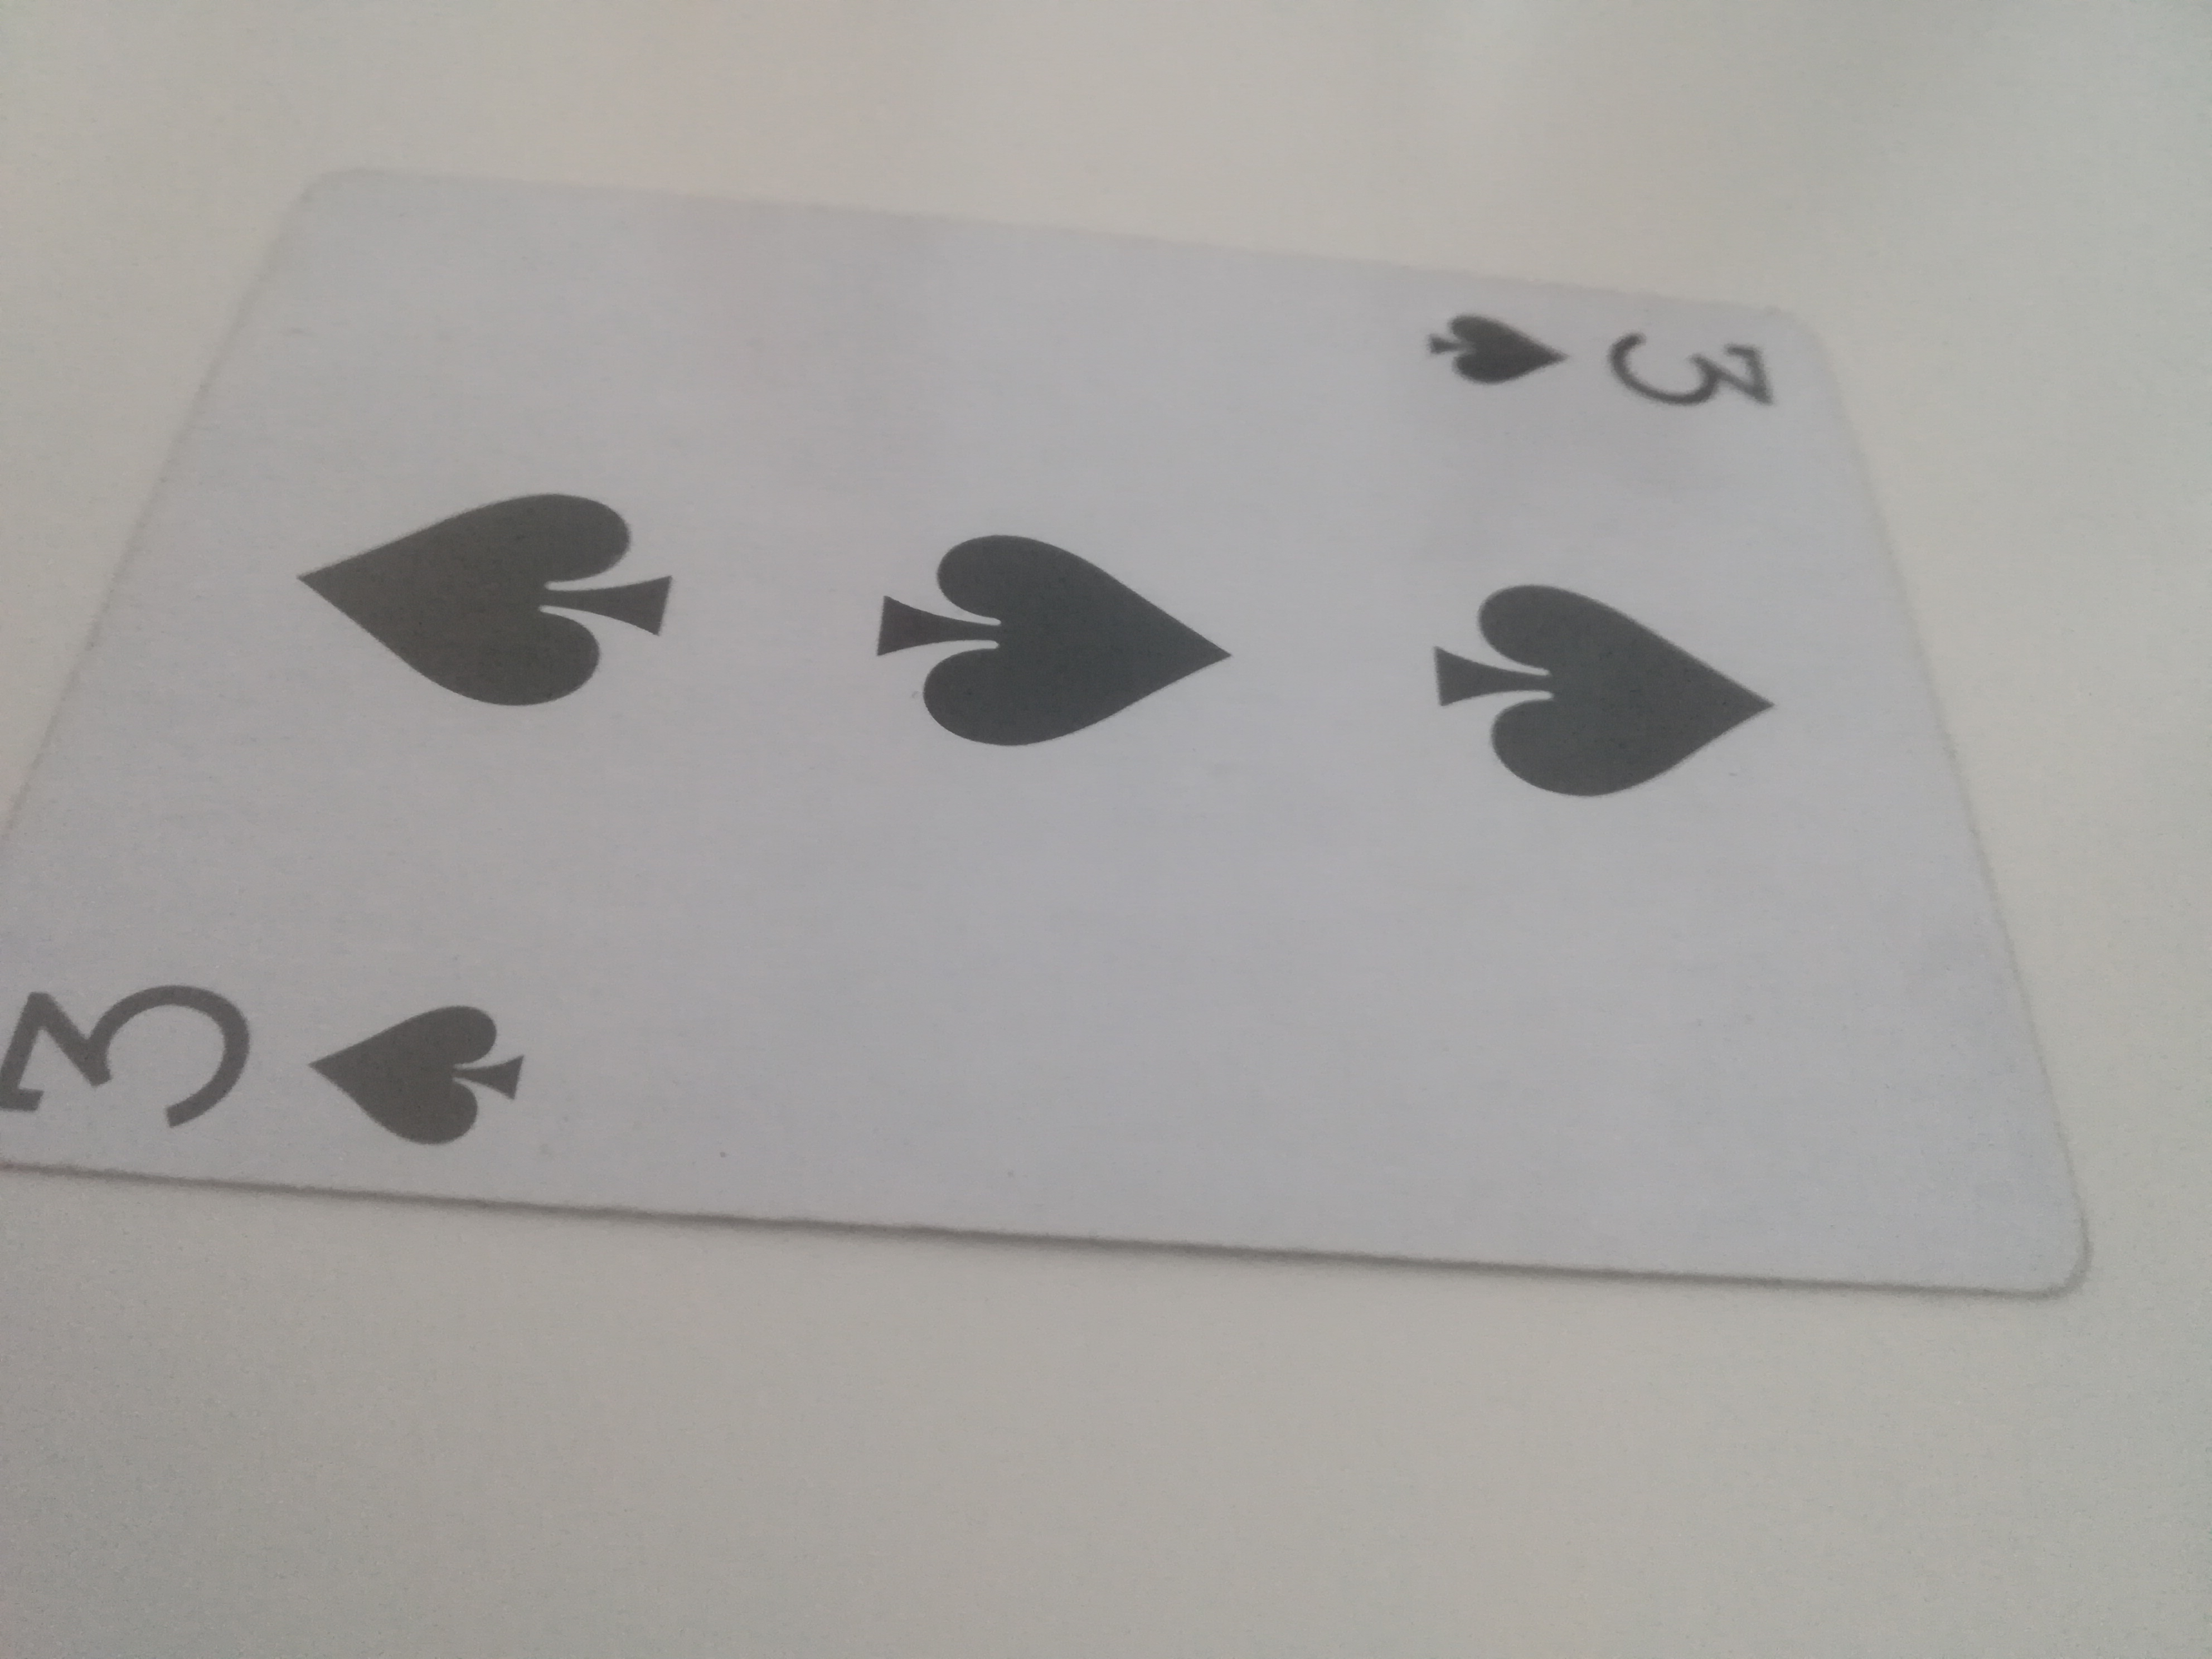3S: (0, 176, 2102, 1307)
